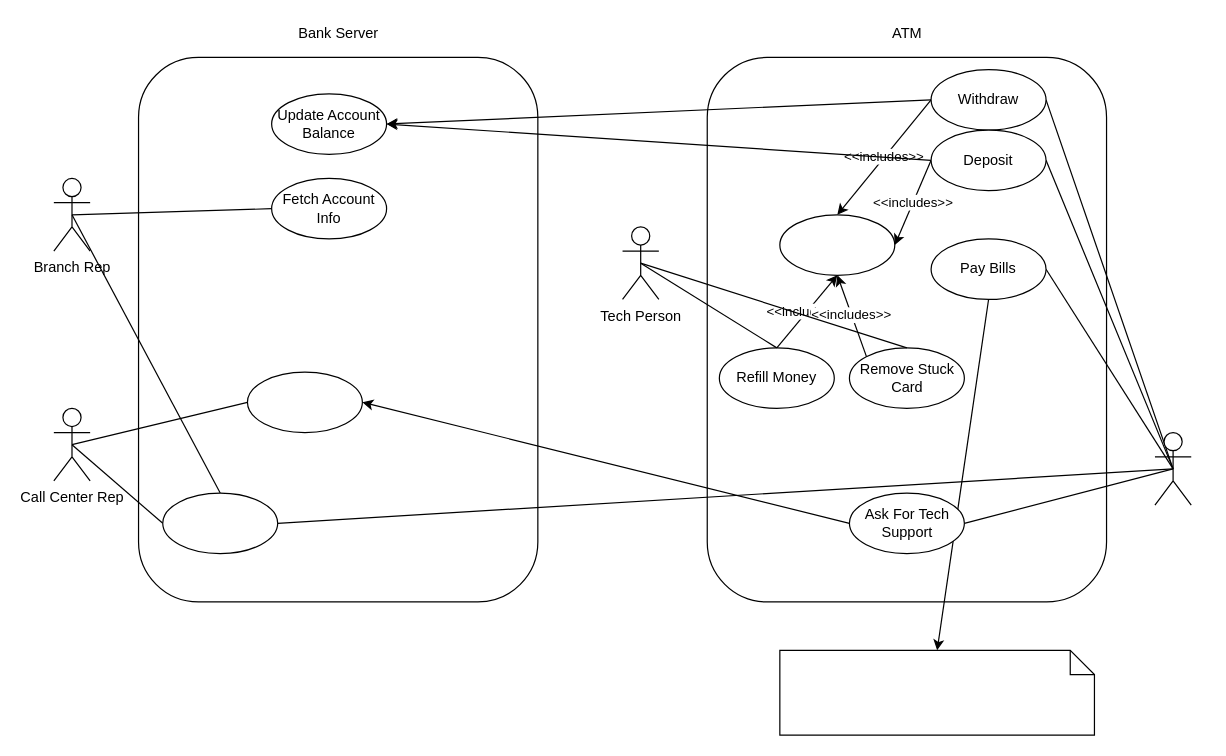
The diagram is 1226 pixels wide and 756 high, and some of its shapes have lost their labels. Here are the shapes that lost their labels. From the top down, the centre of each, then its label:
At (x=837, y=244): "Get Authenticated".
At (x=304, y=402): "Initiate ATM Support".
At (x=1172, y=468): "Customer".
At (x=220, y=523): "Unblock a Card".
At (x=936, y=692): "External Bill Paying Service".
